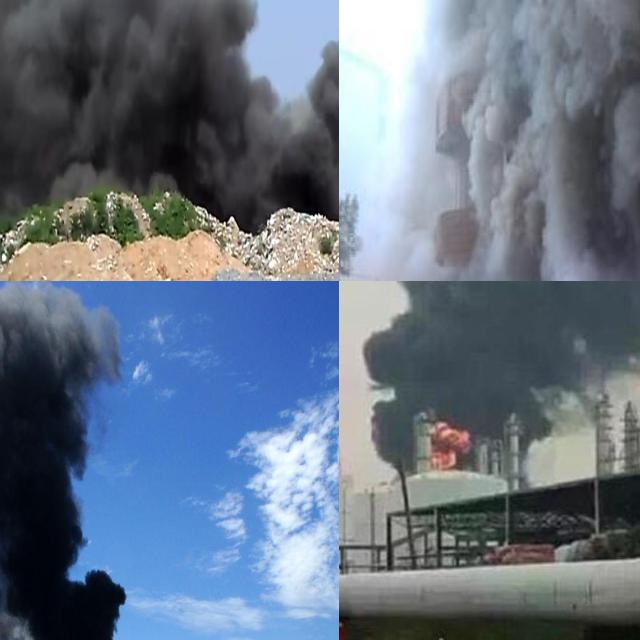fire: (430, 421, 471, 468)
smoke: (0, 0, 339, 230), (353, 281, 640, 463), (0, 281, 129, 640)
